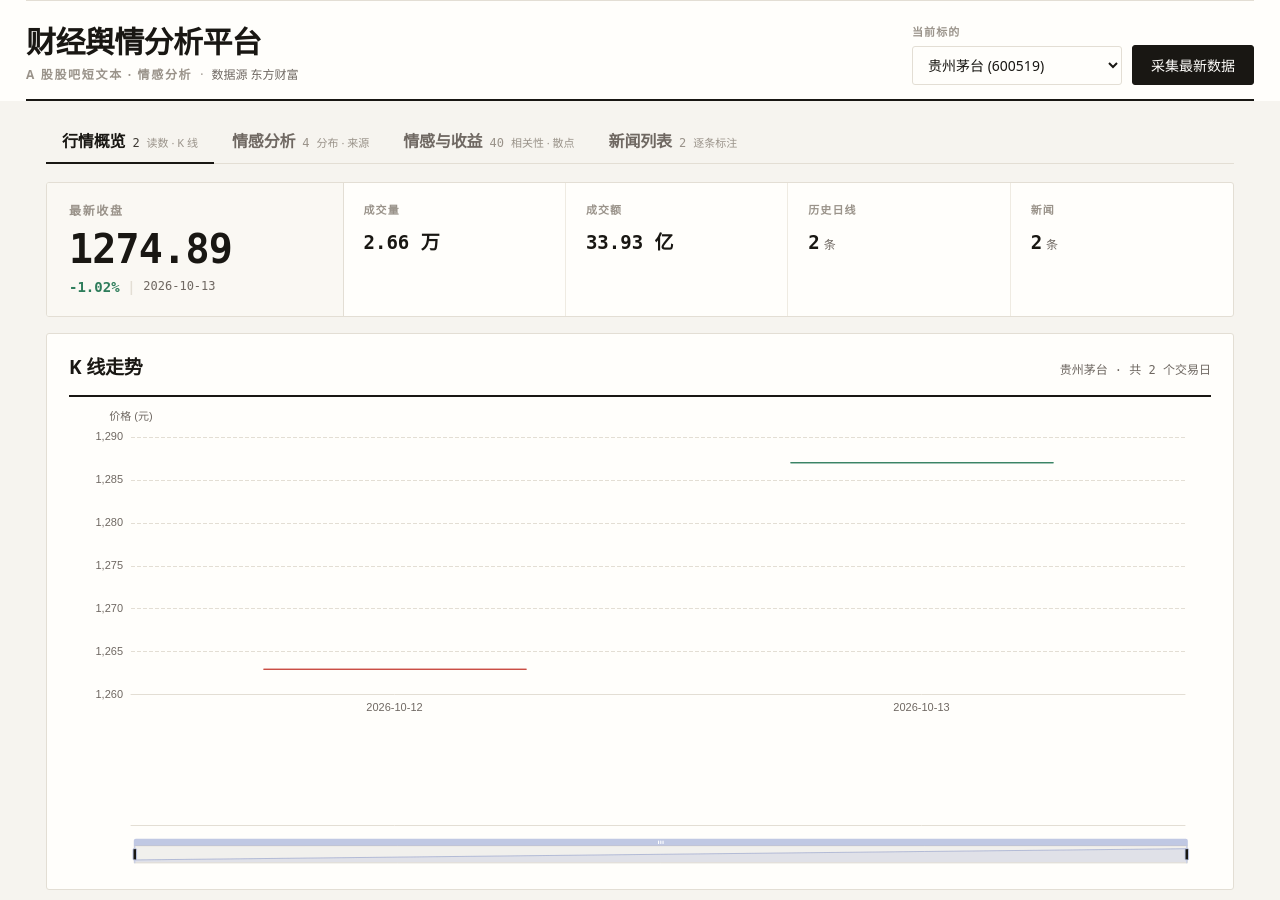
Test case: 情感分析面板 › 展示模型名与测试集指标
The width and height of the screenshot is (1280, 900).
What coordinates should you click on to do the following:
click the tab "情感分析 4 分布 · 来源"
I would click on:
 (301, 141)
Its box is [216, 119, 385, 163].
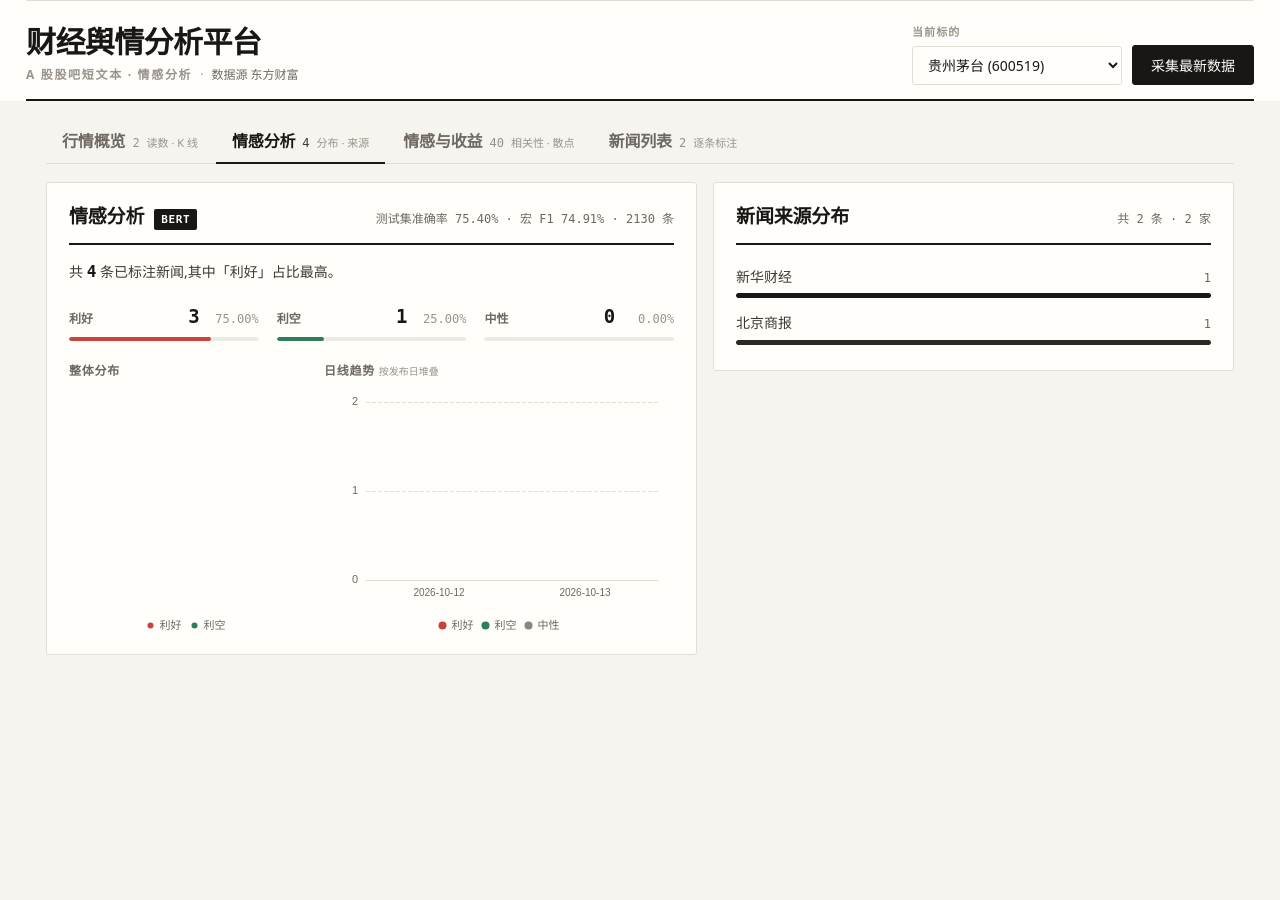
Check: the text "BERT" is shown, box [154, 209, 197, 230]
Check: the text "75.40%" is shown, box [376, 212, 674, 226]
Check: the text "74.91%" is shown, box [376, 212, 674, 226]
